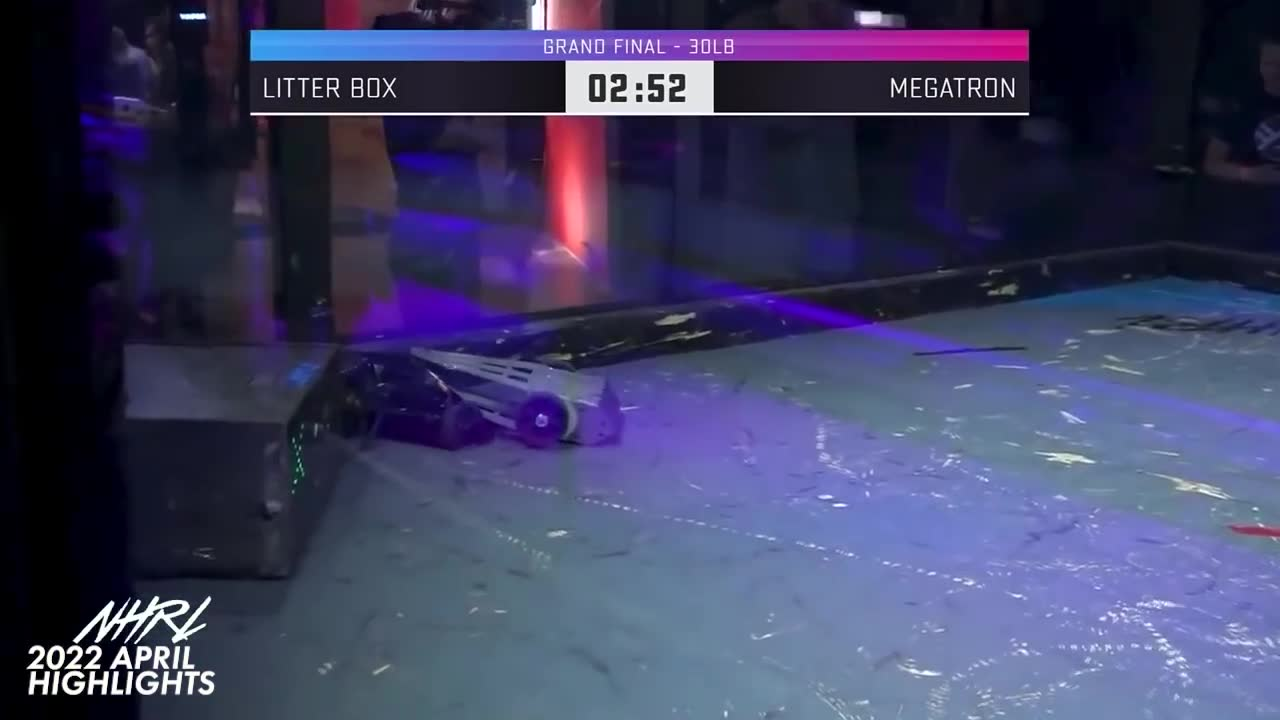belt: (906, 342, 1033, 355)
combatbot: (459, 336, 625, 450), (353, 360, 467, 450)
housebot: (122, 349, 353, 584)
